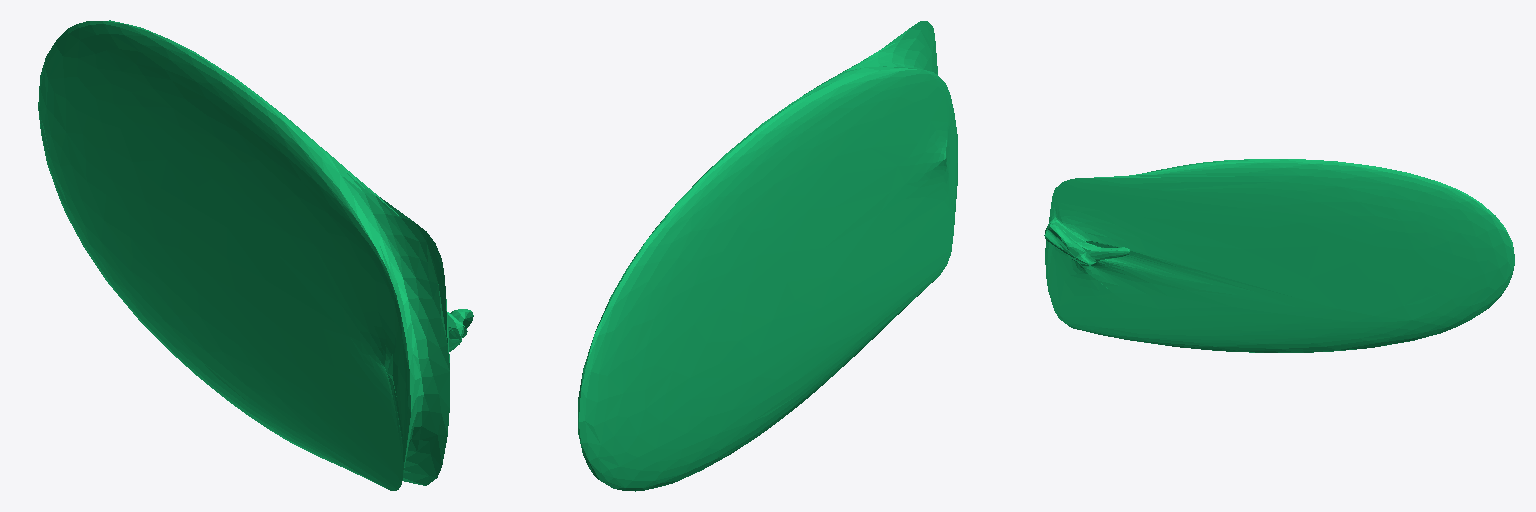
robot.urdf — blob695:

<robot name="blob695">
  <link name="random_obj_695">
    <contact>
      <lateral_friction value="1.0"/>
      <rolling_friction value="0.0"/>
      <inertia_scaling value="3.0"/>
      <contact_cfm value="0.0"/>
      <contact_erp value="1.0"/>
    </contact>
    <inertial>
      <origin rpy="0 0 0" xyz="0 0 0"/>
      <mass value="0.0805"/>
      <inertia ixx="1" ixy="0" ixz="0" iyy="1" iyz="0" izz="0"/>
    </inertial>
    <visual>
      <origin rpy="0 0 0" xyz="0 0 0"/>
      <geometry>
        <mesh filename="695.obj" scale="0.0067 0.0067 0.0067"/>
      </geometry>
      <material name="blockmat">
        <color rgba="0.14 0.77 0.48 1"/>
      </material>
    </visual>
    <collision>
      <origin rpy="0 0 0" xyz="0 0 0"/>
      <geometry>
        <mesh filename="695_coll.obj" scale="0.0067 0.0067 0.0067"/>
      </geometry>
    </collision>
  </link>
</robot>

--- What the picture shows (computed from the rendered views, not written in the file) ---
Views: 3 orthographic renders of the robot side by side, from view 1: azimuth 30°, elevation 25°; view 2: azimuth 150°, elevation 25°; view 3: azimuth 270°, elevation 25°.
Model blob695 with 1 links and 0 joints (none), rooted at random_obj_695, posed all joints at 0.
Links seen in each view (by area): view 1: random_obj_695; view 2: random_obj_695; view 3: random_obj_695.
Boxes of the visible links, left/top/right/bottom form: random_obj_695: left=38, top=20, right=473, bottom=490; random_obj_695: left=578, top=21, right=957, bottom=491; random_obj_695: left=1044, top=159, right=1514, bottom=352.
Bounding box of the posed robot: 0.0082 × 0.0749 × 0.0339 m (x, y, z).
1 mesh visuals loaded from 1 distinct referenced files (1 OBJ).
